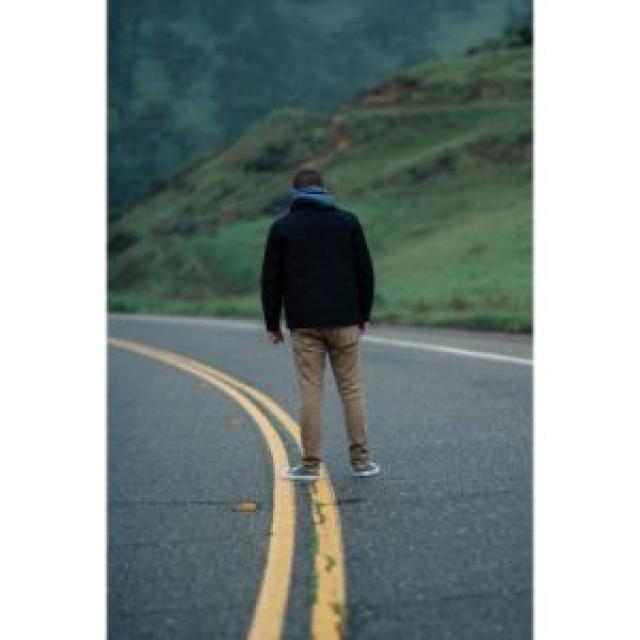nonfall: (252, 154, 413, 485)
